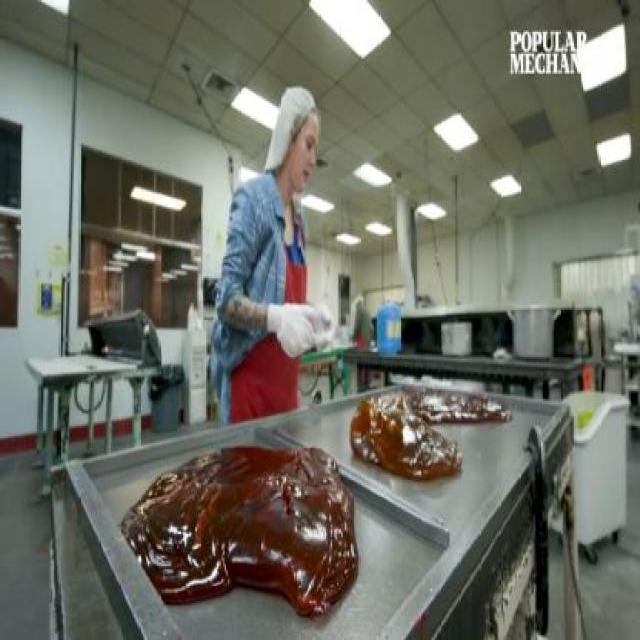hairnet: (268, 85, 316, 146)
